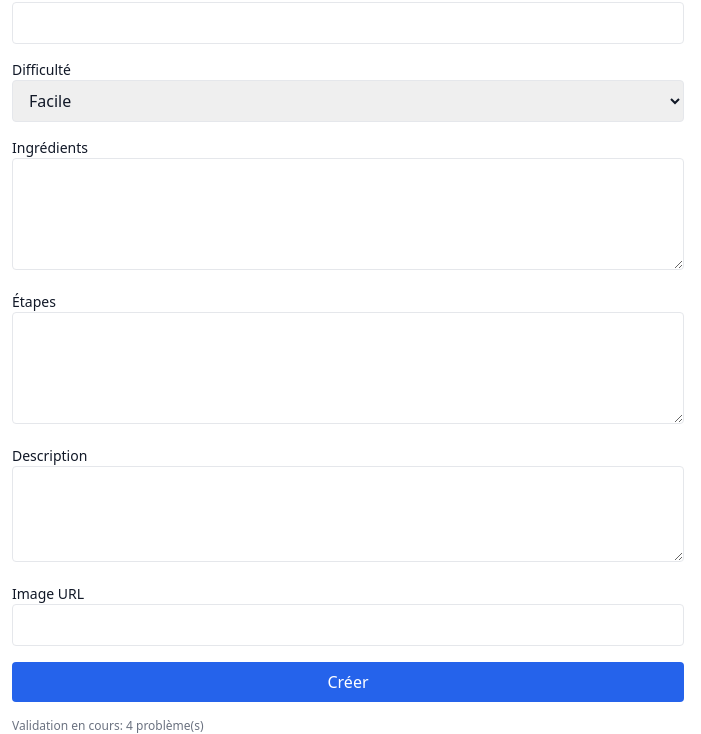
Test: RecipeForm › affiche des erreurs lorsque le formulaire est invalide
This screenshot has width=701, height=734.
(page scrolled)
Click the button "Créer" at (348, 682), box left=12, top=662, right=684, bottom=702
(page scrolled)
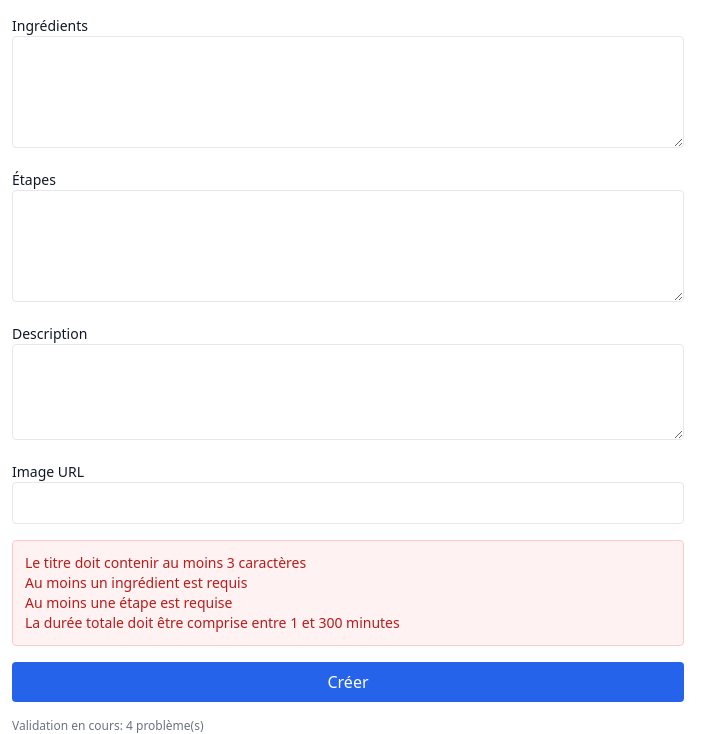
Check: the list item "Le titre doit contenir au moins 3 caractères" is shown, box left=25, top=553, right=306, bottom=572
Check: the list item "Au moins un ingrédient est requis" is shown, box left=25, top=573, right=247, bottom=592
Check: the list item "Au moins une étape est requise" is shown, box left=25, top=593, right=232, bottom=612
